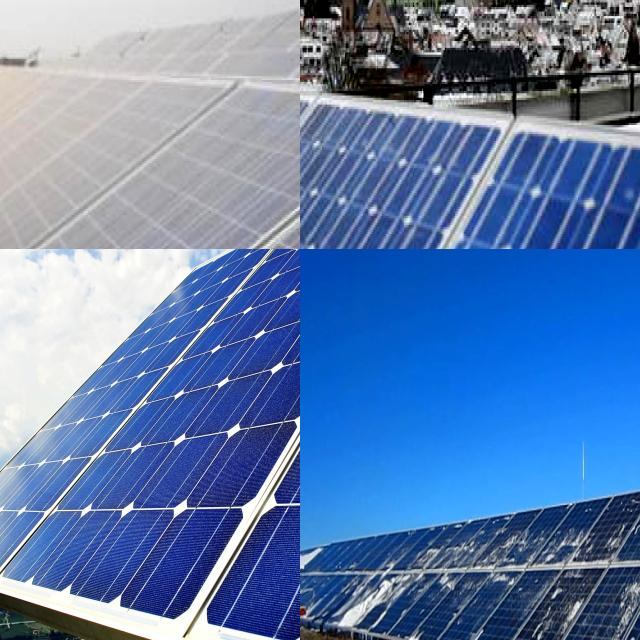crack: (39, 502, 242, 625), (195, 501, 300, 640), (264, 384, 300, 511), (246, 356, 300, 434)
dust: (0, 69, 148, 224), (177, 112, 300, 249)
panel: (414, 531, 530, 586), (300, 136, 351, 239), (557, 516, 634, 573), (337, 556, 392, 633), (534, 585, 588, 640), (407, 621, 519, 640), (604, 584, 640, 640), (530, 510, 554, 578)
